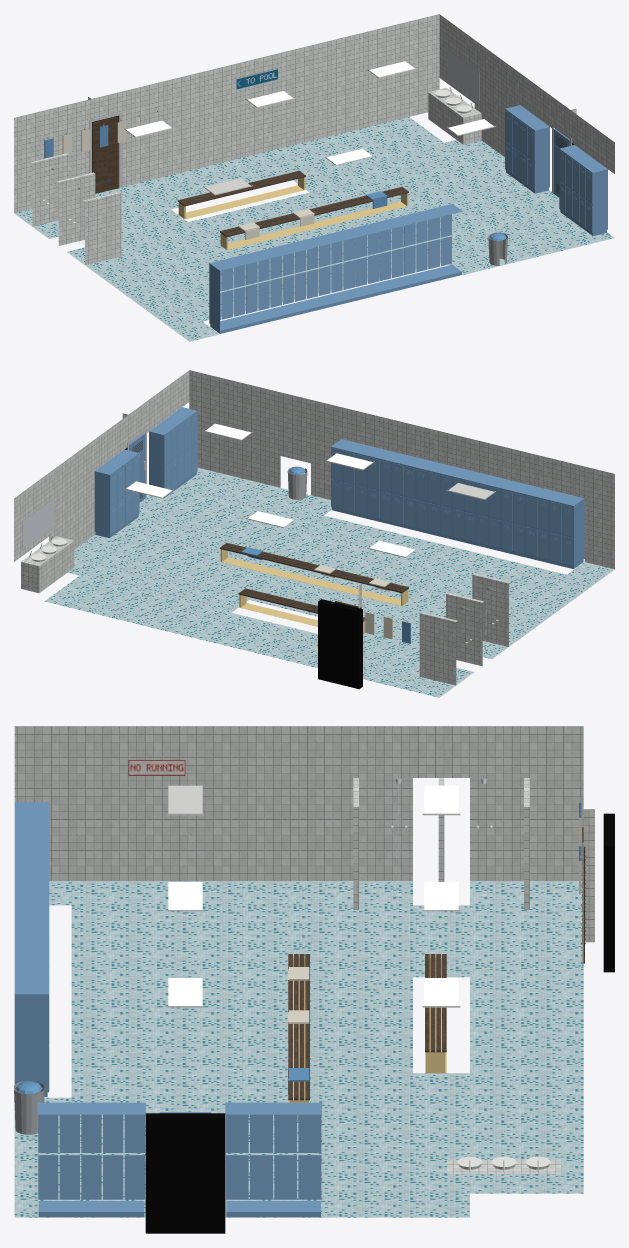
File: rdwe_changing_rooms.glb
3 views of the same model, one above another, from view 1: azimuth 30°, elevation 25°; view 2: azimuth 150°, elevation 25°; view 3: azimuth 270°, elevation 25° (orthographic). The views are drawn at different scales.
Parts seen in each view (by area): view 1: Tile_White, Mosaic, Locker_Door, Locker_Blue, Steel, Wood_Oak, Paint_Palette, Lamp_Emit, DoorLeaf_flooded, Mirror, Trim_Steel, DoorLeaf_locker (+3 smaller); view 2: Mosaic, Tile_White, Locker_Door, Locker_Blue, Void_Black, Steel, Lamp_Emit, Wood_Oak, Paint_Palette, Mirror, Plastic_Grey, DoorLeaf_locker (+1 smaller); view 3: Mosaic, Tile_White, Locker_Door, Locker_Blue, Void_Black, Lamp_Emit, Wood_Oak, Paint_Palette, Steel, Plastic_Grey, Lamp_Off, Signs_Changing (+1 smaller).
Part boxes in pixels (left/top/right/bottom): Tile_White: left=14, top=14, right=614, bottom=265; Mosaic: left=14, top=117, right=614, bottom=341; Locker_Door: left=220, top=110, right=592, bottom=320; Locker_Blue: left=209, top=105, right=607, bottom=333; Steel: left=178, top=177, right=408, bottom=250; Wood_Oak: left=177, top=170, right=408, bottom=237; Paint_Palette: left=29, top=111, right=506, bottom=240; Lamp_Emit: left=126, top=61, right=493, bottom=164; DoorLeaf_flooded: left=92, top=116, right=118, bottom=193; Mirror: left=448, top=49, right=479, bottom=100; Trim_Steel: left=89, top=112, right=571, bottom=193; DoorLeaf_locker: left=553, top=128, right=569, bottom=197; Mosaic: left=44, top=467, right=614, bottom=697; Tile_White: left=14, top=370, right=614, bottom=685; Locker_Door: left=110, top=412, right=573, bottom=565; Locker_Blue: left=94, top=407, right=584, bottom=569; Void_Black: left=125, top=448, right=362, bottom=689; Steel: left=220, top=549, right=408, bottom=634; Lamp_Emit: left=126, top=423, right=415, bottom=556; Wood_Oak: left=220, top=542, right=408, bottom=621; Paint_Palette: left=241, top=467, right=425, bottom=643; Mirror: left=22, top=498, right=54, bottom=549; Plastic_Grey: left=287, top=466, right=307, bottom=499; DoorLeaf_locker: left=129, top=433, right=145, bottom=502; Mosaic: left=14, top=881, right=583, bottom=1217; Tile_White: left=14, top=726, right=594, bottom=1173; Locker_Door: left=38, top=804, right=321, bottom=1199; Locker_Blue: left=14, top=802, right=321, bottom=1217; Void_Black: left=145, top=813, right=614, bottom=1233; Lamp_Emit: left=168, top=785, right=458, bottom=1005; Wood_Oak: left=288, top=954, right=446, bottom=1100; Paint_Palette: left=15, top=783, right=583, bottom=1094; Steel: left=288, top=956, right=446, bottom=1121; Plastic_Grey: left=14, top=1081, right=44, bottom=1134; Lamp_Off: left=168, top=785, right=202, bottom=813; Signs_Changing: left=128, top=760, right=185, bottom=775.
Bounding box in the file's own units: 14.55 × 3.05 × 10.56.
22 materials, 8 textured.
